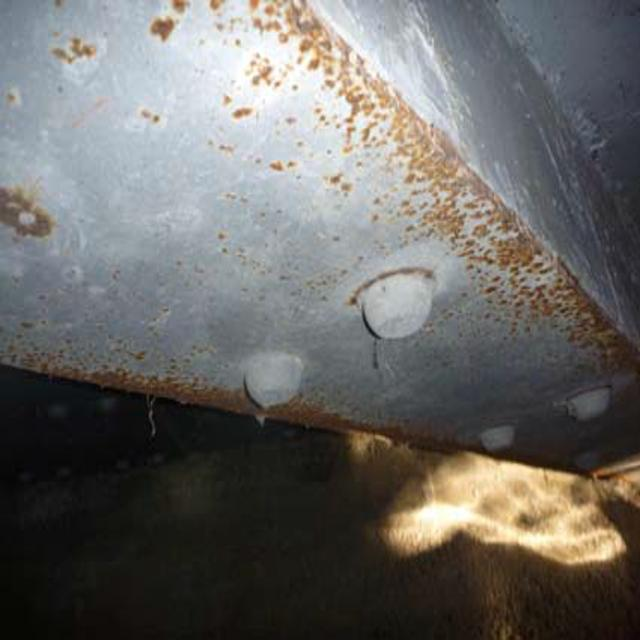corrosion: (11, 0, 640, 439)
